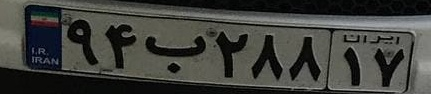character: (140, 21, 211, 78), (285, 28, 326, 86), (101, 14, 140, 73), (212, 22, 250, 81), (250, 24, 285, 84), (64, 14, 100, 69), (371, 45, 407, 91), (337, 45, 369, 90)
